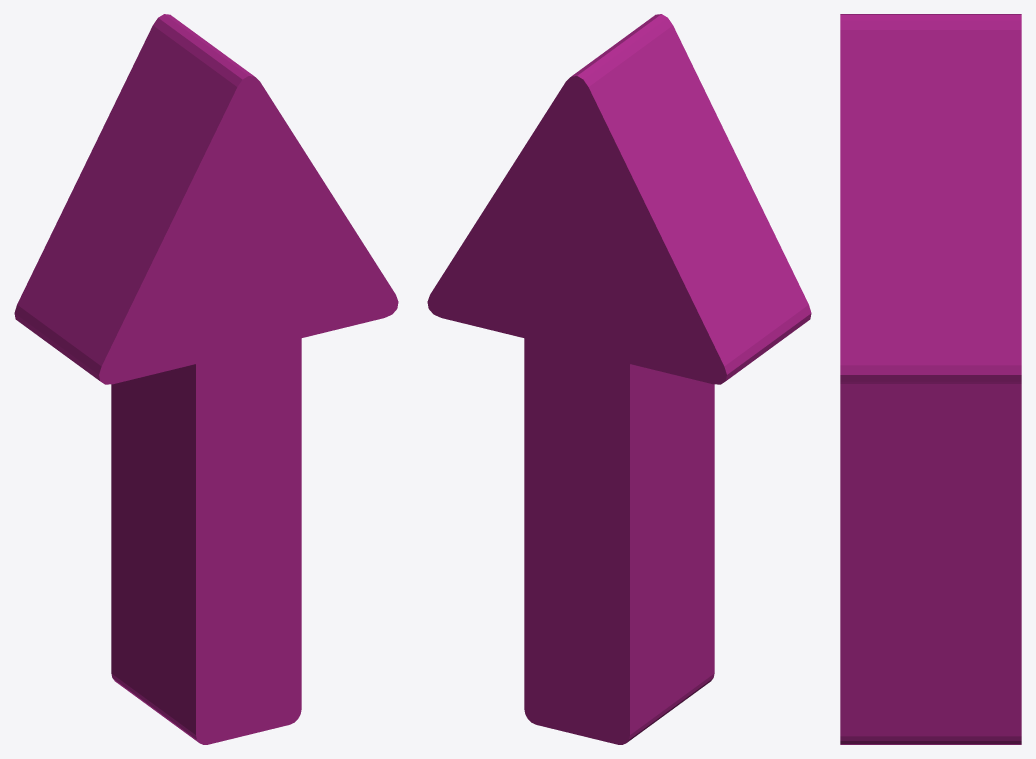
The model's file is testeseta_labQ-OK.fbx.
3 views of the same model, side by side, from view 1: azimuth 30°, elevation 25°; view 2: azimuth 150°, elevation 25°; view 3: azimuth 270°, elevation 25° (orthographic). The views are drawn at different scales.
Visible parts, largest first — view 1: Cylinder; view 2: Cylinder; view 3: Cylinder.
Part boxes in pixels (x1=…): Cylinder: x1=14, y1=14, x2=398, y2=744; Cylinder: x1=427, y1=14, x2=811, y2=744; Cylinder: x1=840, y1=14, x2=1021, y2=744.
Size of the model in its own units: 164 by 344 by 80.
